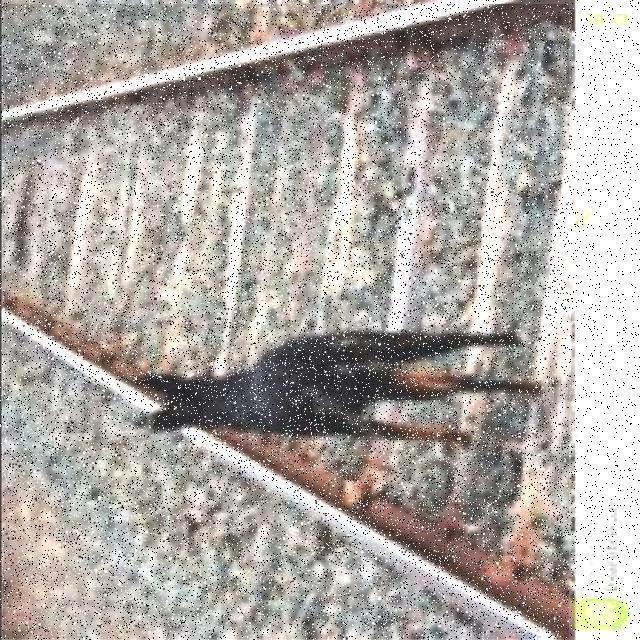rail: (5, 6, 570, 640)
